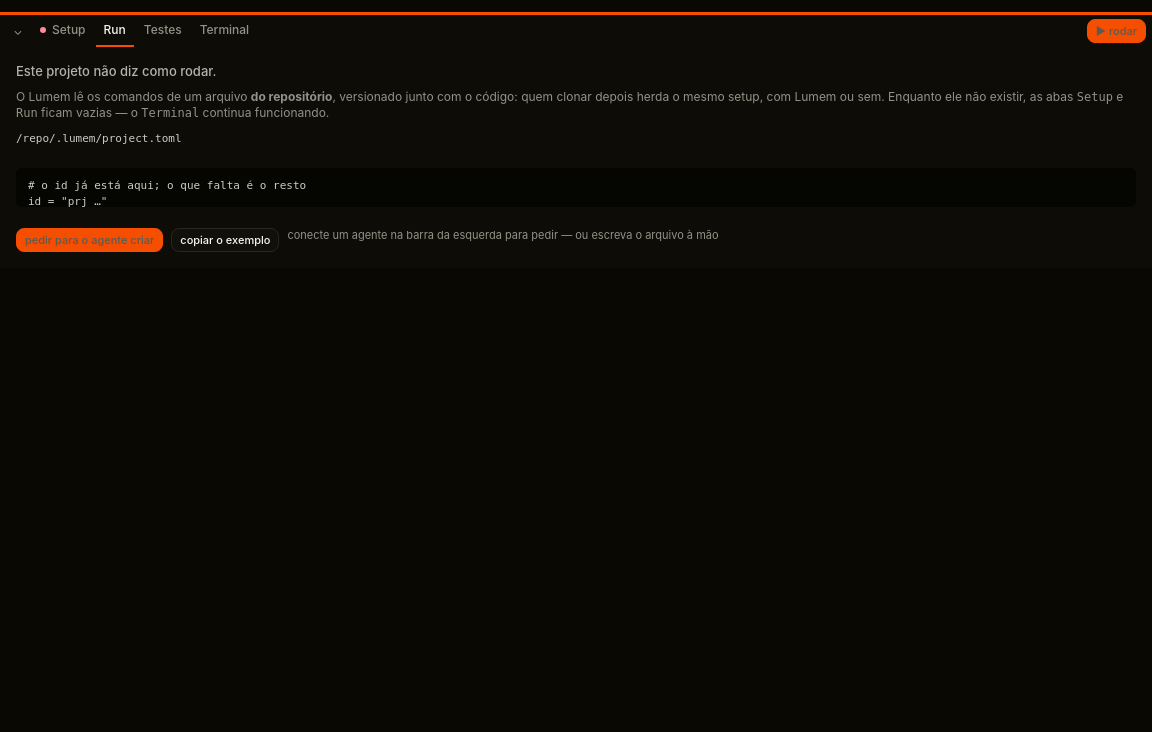
Scenario: o setup que falhou › é uma tira dentro da aba, e não um diálogo que some
What coordinates should you click on to do the following:
click the tab "Setup"
I would click on:
 (63, 31)
Its box is [32, 15, 94, 47].
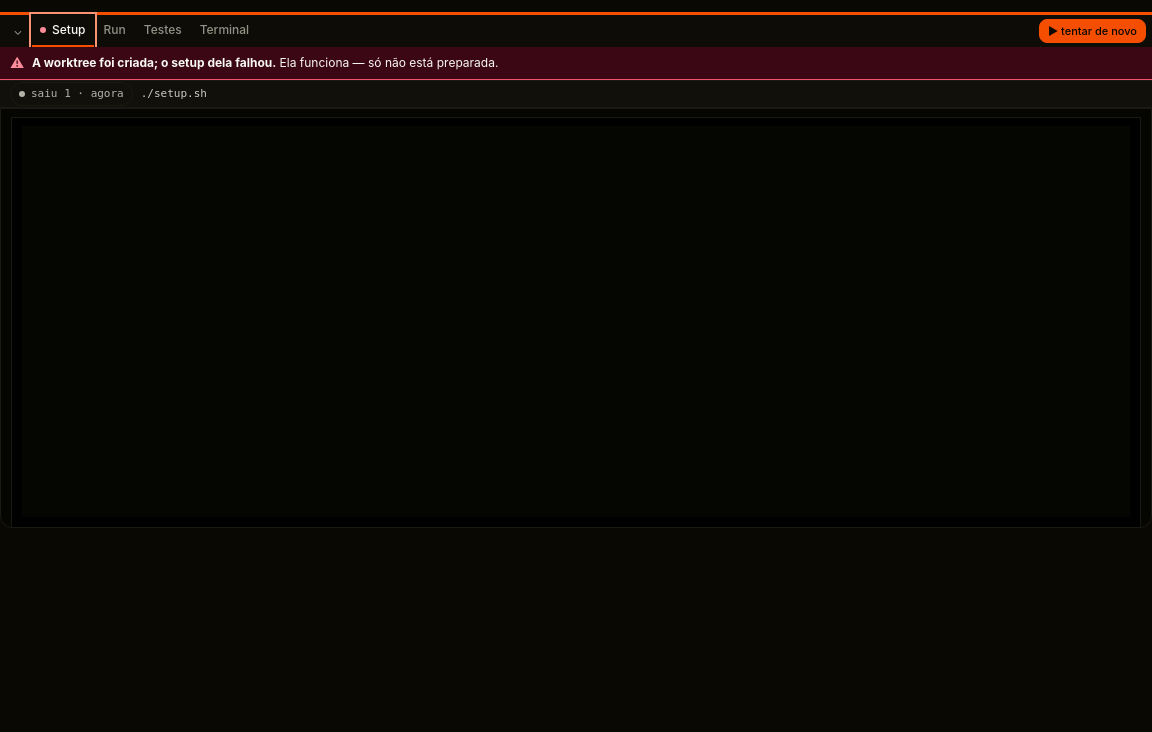
Check: the text "A worktree foi criada; o setup dela falhou." is shown, box [32, 55, 276, 70]
Check: the button "▶ tentar de novo" is shown, box [1039, 19, 1146, 43]
